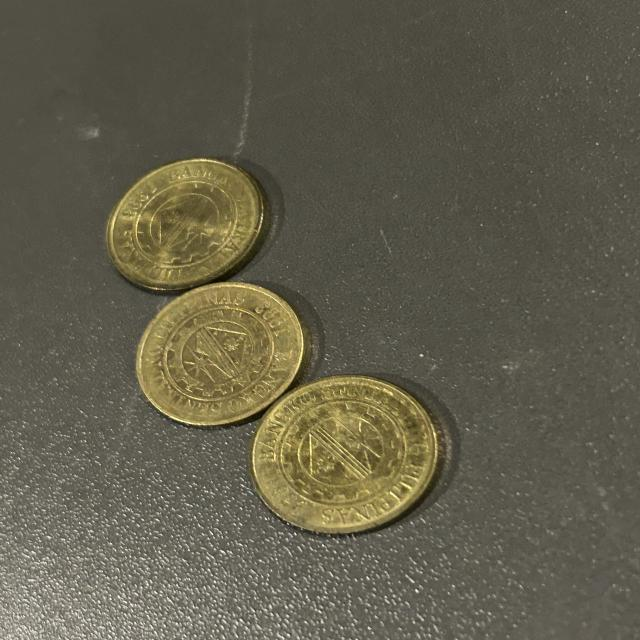25Cent_Old_Back: (292, 387, 430, 505), (155, 300, 292, 403), (127, 173, 258, 270)
